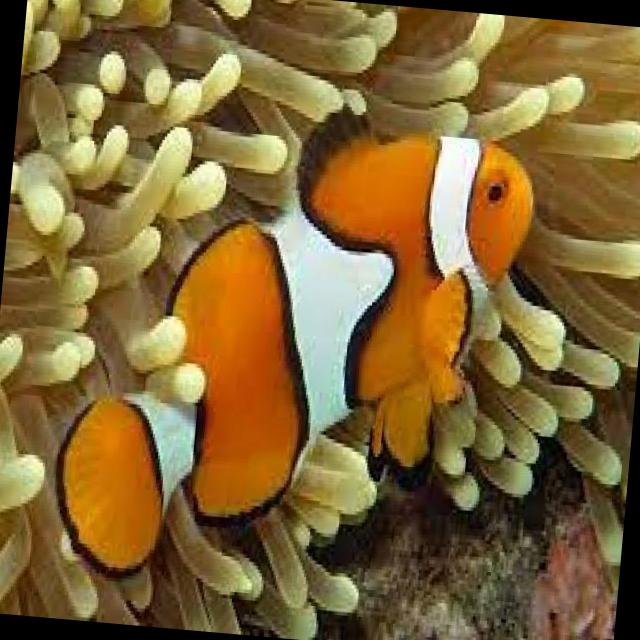ClownFish: (49, 90, 546, 612)
